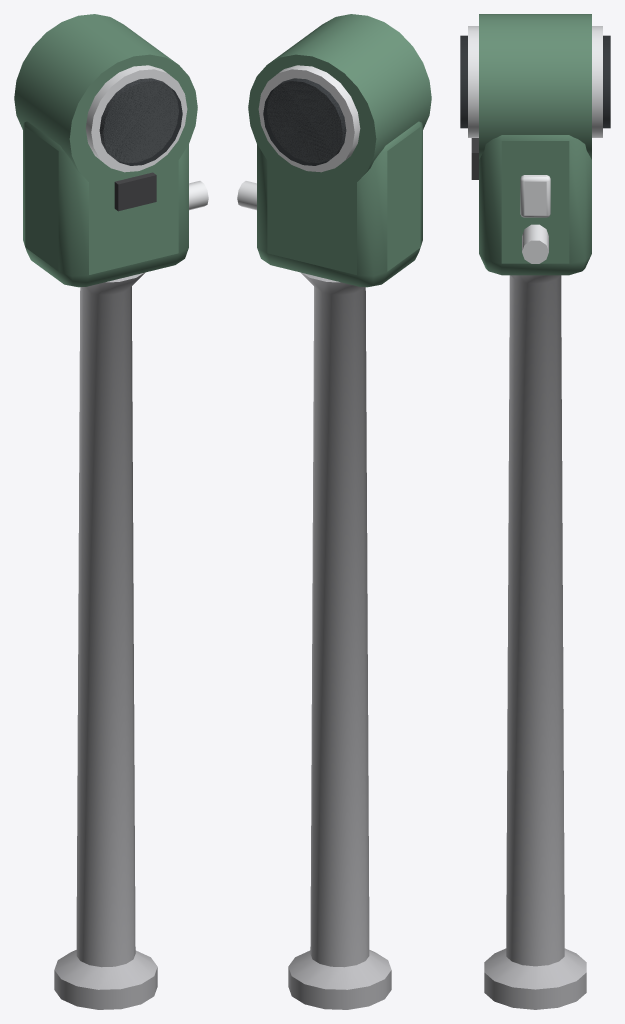
File: parking_meter.glb
3 renders of one model, left to right at view 1: azimuth 30°, elevation 25°; view 2: azimuth 150°, elevation 25°; view 3: azimuth 270°, elevation 25°, orthographic.
Parts seen in each view (by area): view 1: parking_meter; view 2: parking_meter; view 3: parking_meter.
Part boxes in pixels (x1,y1,x2,y2): parking_meter: (14,14,208,1009); parking_meter: (237,14,431,1009); parking_meter: (460,14,610,1009).
Bounding box in the file's own units: 0.25 × 1.42 × 0.2.
